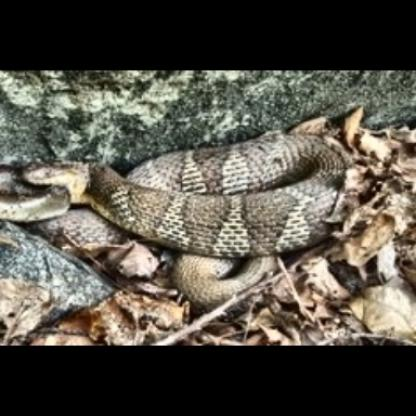Snake: (5, 105, 407, 294)
